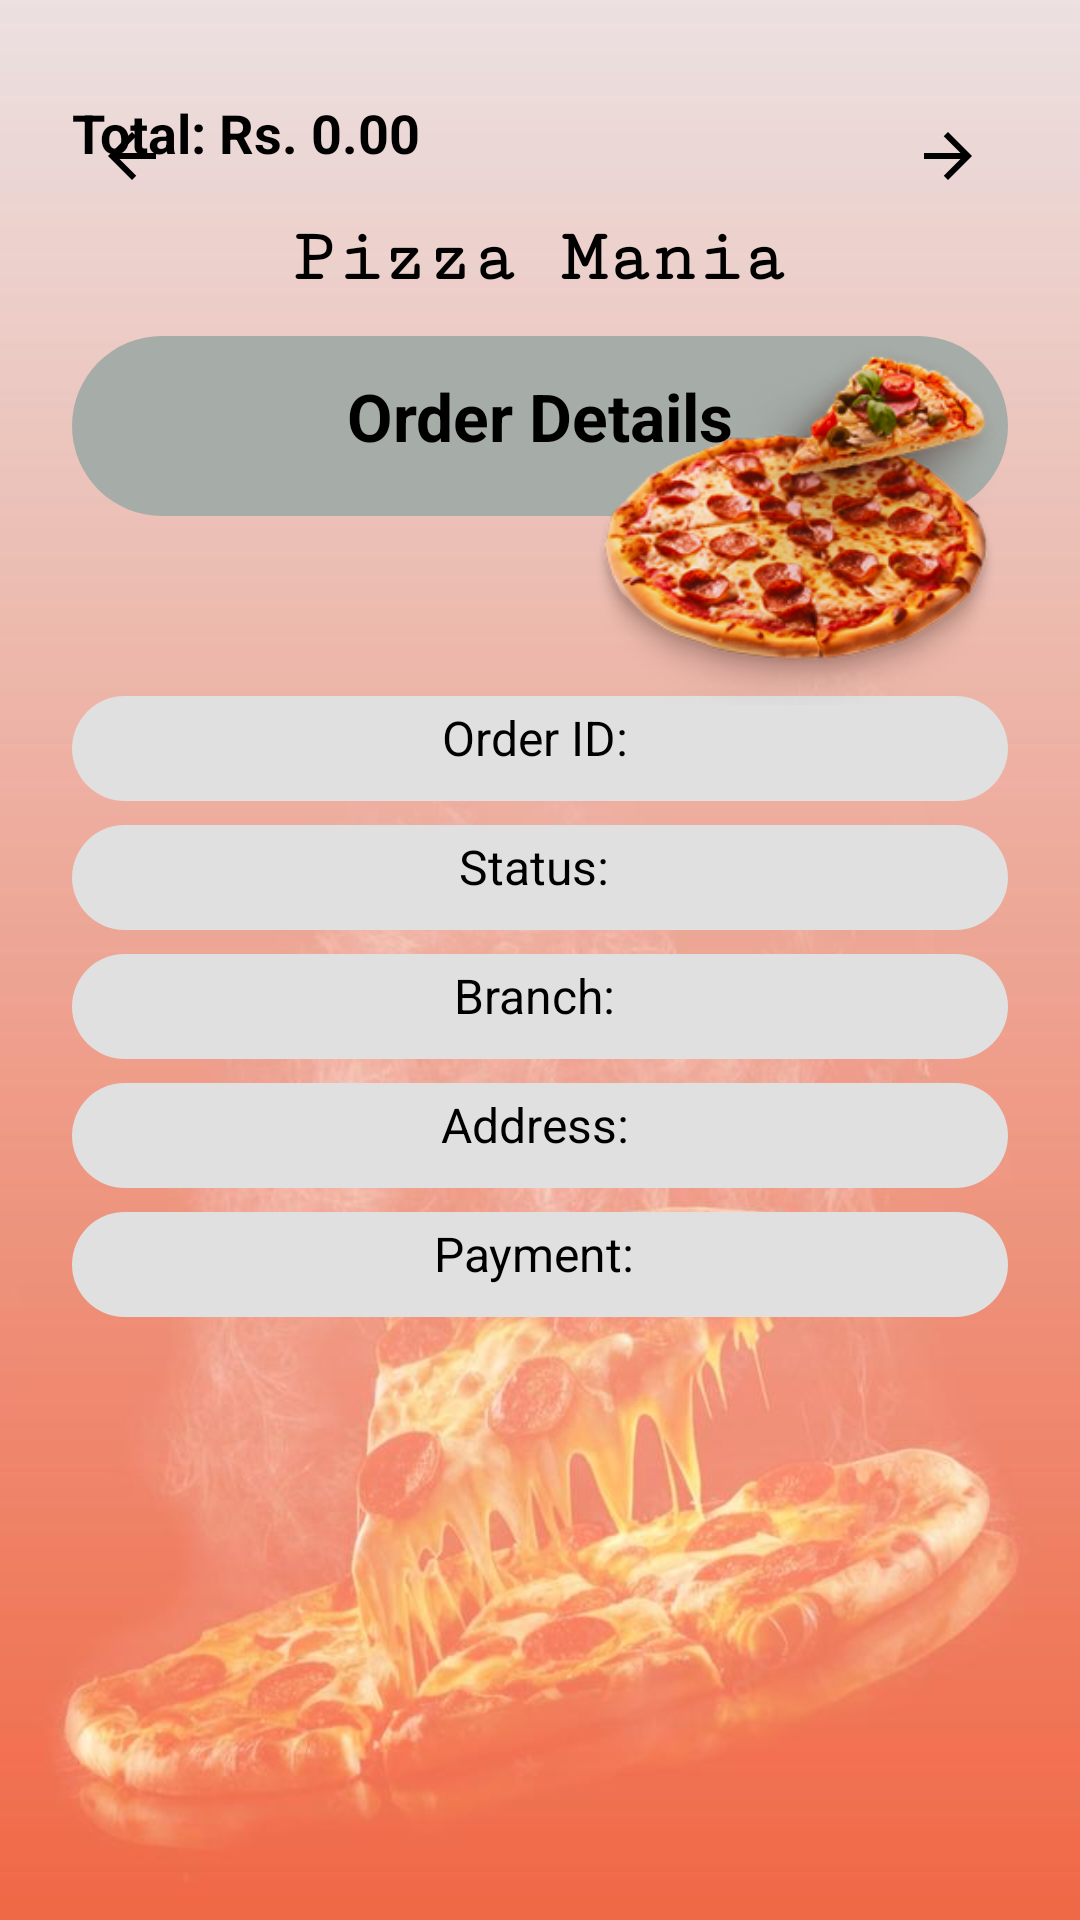

Named icons in this screenshot (1080 × 1920) and their centers, [x,y]:
Next: [948,156]
